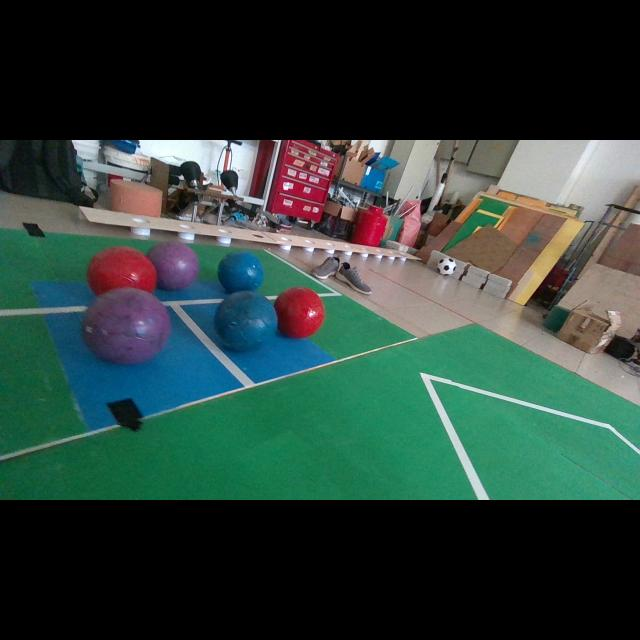B: (214, 291, 278, 351), (218, 251, 264, 292)
P: (81, 288, 170, 364), (148, 241, 199, 290)
R: (86, 246, 156, 295), (274, 286, 325, 338)
